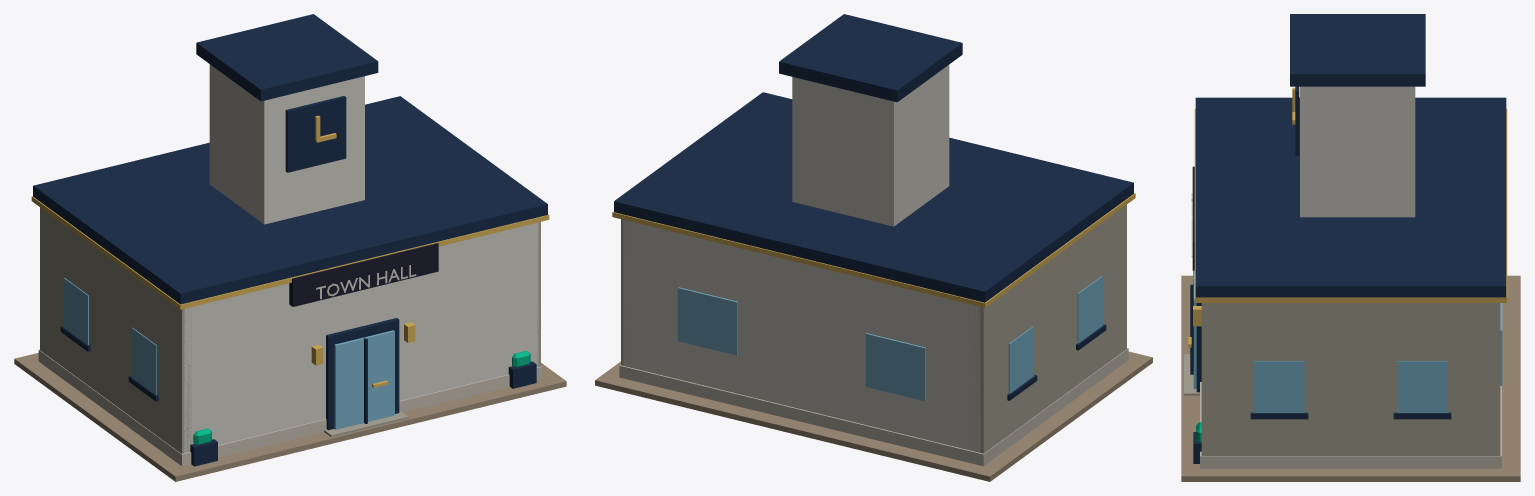
Rendered from town-hall-yrHRuMRN.glb.
The picture shows the model from 3 angles, left to right: view 1: azimuth 30°, elevation 25°; view 2: azimuth 150°, elevation 25°; view 3: azimuth 270°, elevation 25°; orthographic projection. The views are drawn at different scales.
Visible parts, largest first — view 1: Architecture; view 2: Architecture; view 3: Architecture.
Boxes of the visible parts, x1,y1,x2,y2 form: Architecture: (14,14,566,481); Architecture: (595,14,1152,481); Architecture: (1181,14,1520,481).
Size of the model in its own units: 14 by 10.98 by 10.
